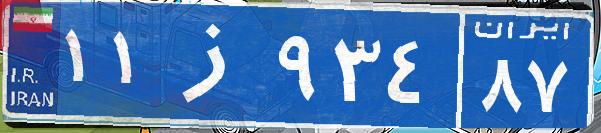1: (57, 26, 110, 107), (110, 28, 158, 105)
3: (330, 28, 385, 110)
4: (385, 28, 445, 110)
7: (525, 38, 570, 115)
8: (475, 38, 525, 113)
9: (273, 28, 330, 110)
ز: (158, 15, 273, 115)
